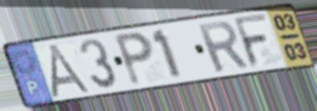1: (150, 29, 187, 81)
3: (80, 38, 119, 91)
A: (47, 42, 95, 99)
F: (231, 11, 272, 71)
P: (112, 30, 157, 89)
R: (194, 19, 251, 75)
